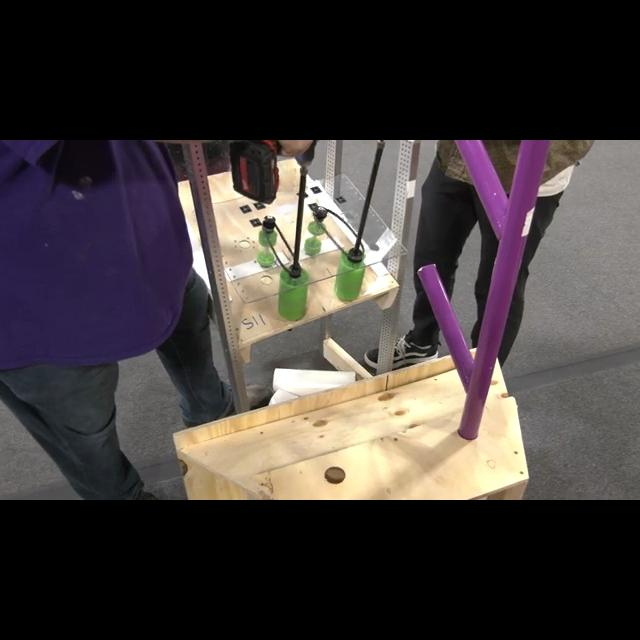CORAL: (273, 367, 355, 393)
